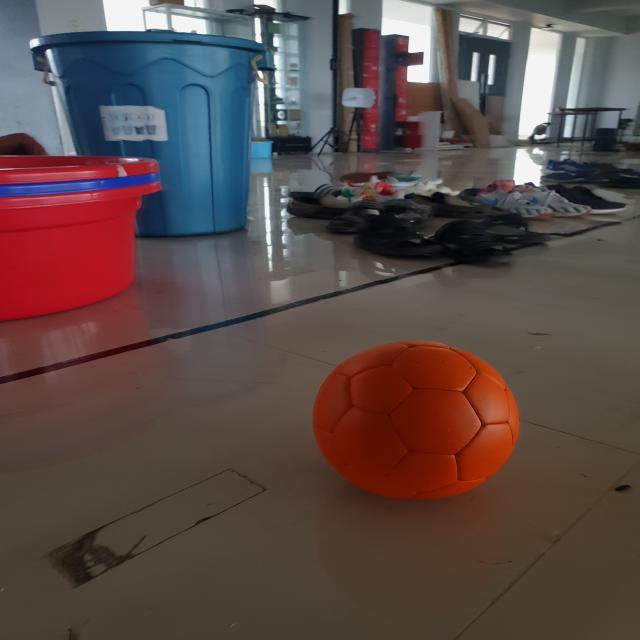bola: (300, 334, 530, 506)
